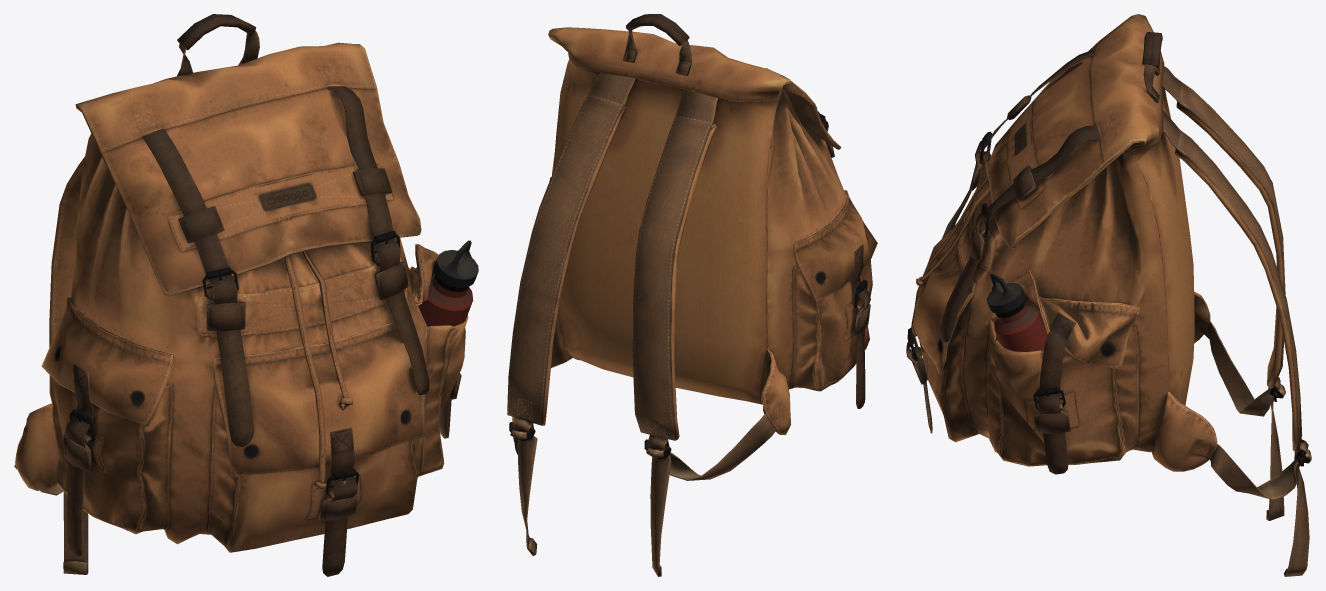
The model's file is Backpack.fbx.
3 views of the same model, side by side, from view 1: azimuth 30°, elevation 25°; view 2: azimuth 150°, elevation 25°; view 3: azimuth 270°, elevation 25° (orthographic). The views are drawn at different scales.
Visible parts, largest first — view 1: _gltfNode_0; view 2: _gltfNode_0; view 3: _gltfNode_0.
Part boxes in pixels (box(x1,y1,x2,y2)): _gltfNode_0: box(14, 14, 478, 576); _gltfNode_0: box(507, 14, 877, 576); _gltfNode_0: box(906, 14, 1311, 576).
Bounding box in the file's own units: 4349 × 6418 × 4581.
1 material, 1 textured.
